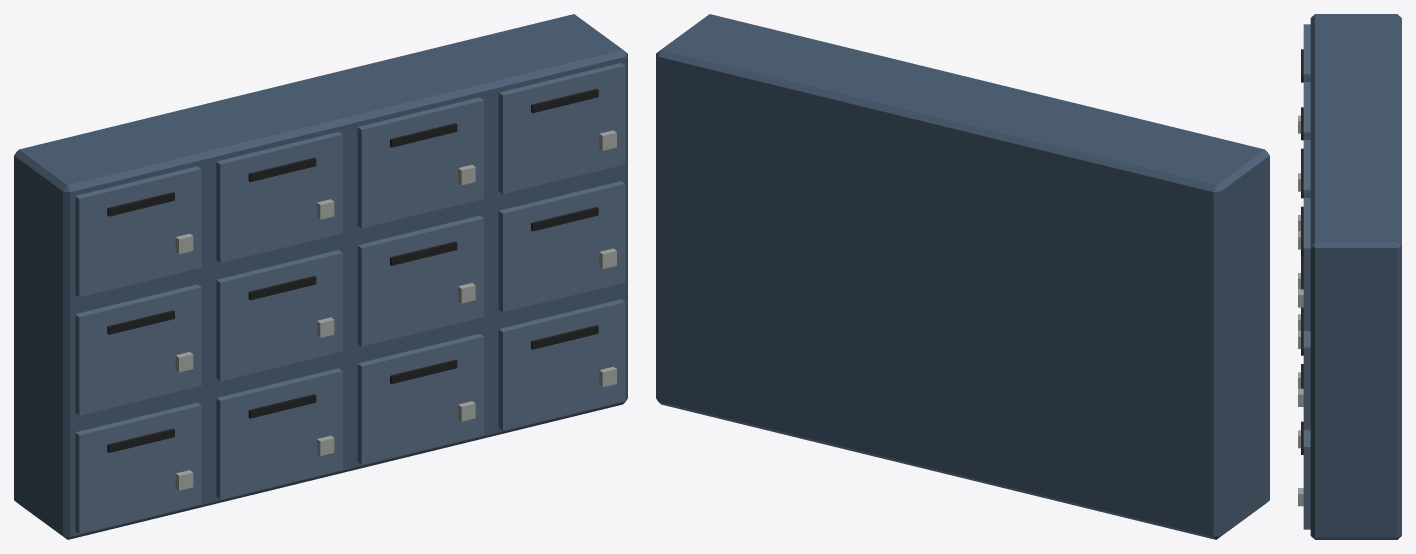
File: mailboxes.glb
3 renders of one model, left to right at view 1: azimuth 30°, elevation 25°; view 2: azimuth 150°, elevation 25°; view 3: azimuth 270°, elevation 25°, orthographic. The views are drawn at different scales.
Parts seen in each view (by area): view 1: Mailboxes; view 2: Mailboxes; view 3: Mailboxes.
Part boxes in pixels (x1,y1,x2,y2): Mailboxes: [14, 14, 627, 539]; Mailboxes: [656, 14, 1269, 539]; Mailboxes: [1298, 14, 1401, 539].
Bounding box in the file's own units: 1.2 × 0.72 × 0.2275.
